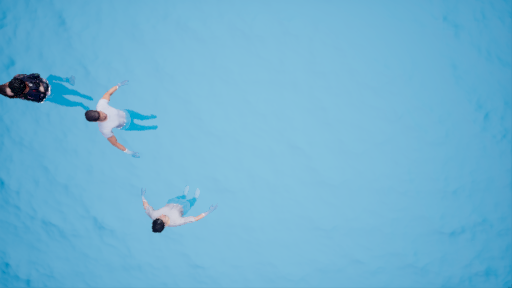person: (77, 85, 159, 159), (2, 69, 96, 116), (136, 181, 220, 232)
